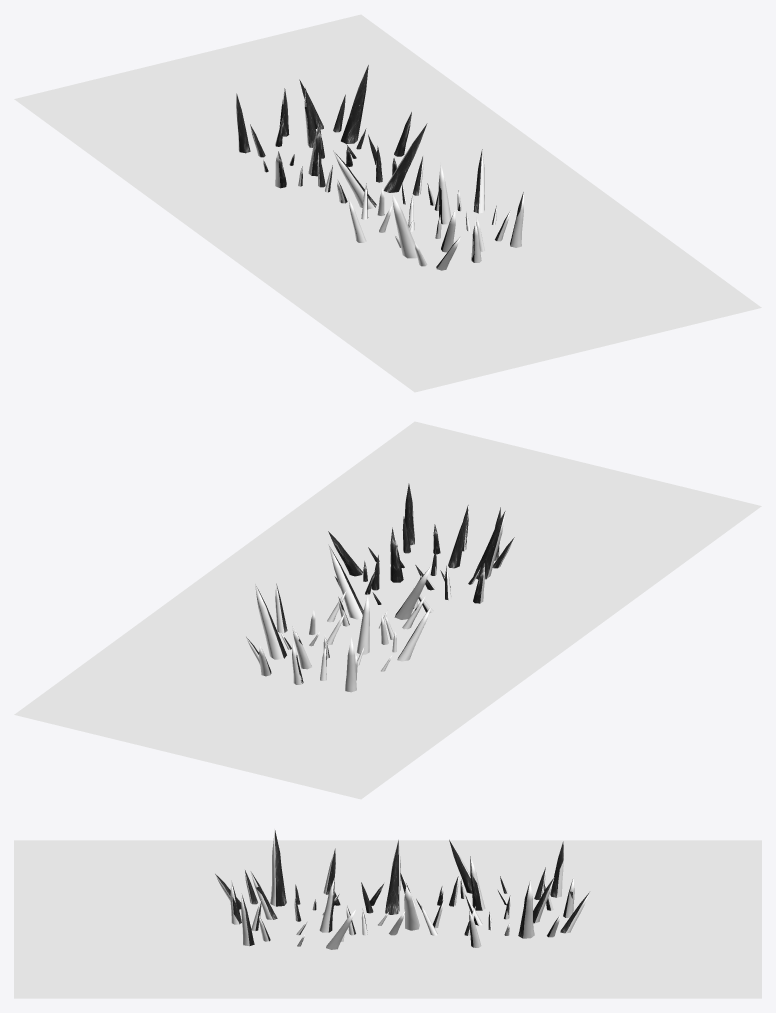
Rendered from effect_role@bossjiugongzi_skill01huangquandici_02.fbx.
The picture shows the model from 3 angles, top to bottom: view 1: azimuth 30°, elevation 25°; view 2: azimuth 150°, elevation 25°; view 3: azimuth 270°, elevation 25°; orthographic projection. The views are drawn at different scales.
Parts seen in each view (by area): view 1: effect_mesh@wanyaoling_mianpian01 (1), dici, dici (1); view 2: effect_mesh@wanyaoling_mianpian01 (1), dici (1), dici; view 3: effect_mesh@wanyaoling_mianpian01 (1), dici (1), dici.
Boxes of the visible parts, bbox=[...] form: effect_mesh@wanyaoling_mianpian01 (1): bbox=[14, 14, 761, 392]; dici: bbox=[236, 65, 523, 268]; dici (1): bbox=[236, 90, 523, 270]; effect_mesh@wanyaoling_mianpian01 (1): bbox=[14, 421, 761, 799]; dici (1): bbox=[246, 506, 513, 692]; dici: bbox=[246, 483, 514, 683]; effect_mesh@wanyaoling_mianpian01 (1): bbox=[14, 840, 761, 998]; dici (1): bbox=[215, 829, 589, 949]; dici: bbox=[215, 830, 589, 947].
Bounding box in the file's own units: 7.12 × 1.57 × 14.24.
